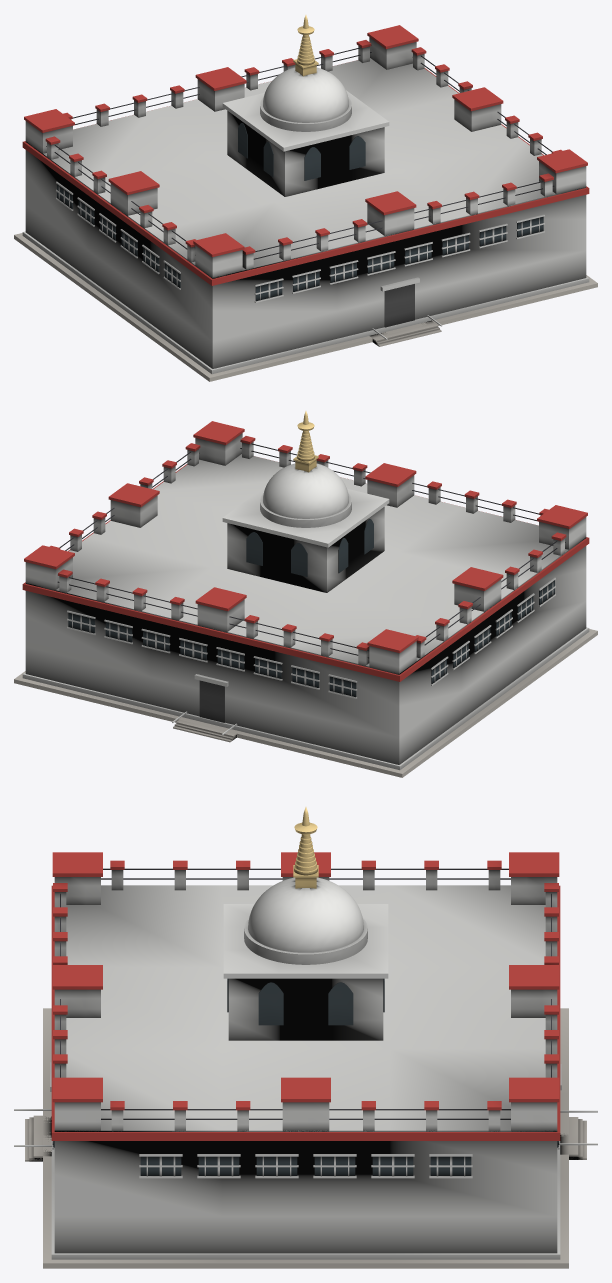
The model's file is maya-devi-temple.glb.
3 renders of one model, top to bottom at view 1: azimuth 30°, elevation 25°; view 2: azimuth 150°, elevation 25°; view 3: azimuth 270°, elevation 25°, orthographic. The views are drawn at different scales.
Parts seen in each view (by area): view 1: model-stone; view 2: model-stone; view 3: model-stone.
Boxes of the visible parts, bbox=[...] form: model-stone: bbox=[14, 15, 597, 381]; model-stone: bbox=[14, 411, 597, 777]; model-stone: bbox=[14, 807, 597, 1268].
Bounding box in the file's own units: 31.2 × 19.11 × 30.2.
1 material, 1 textured.
